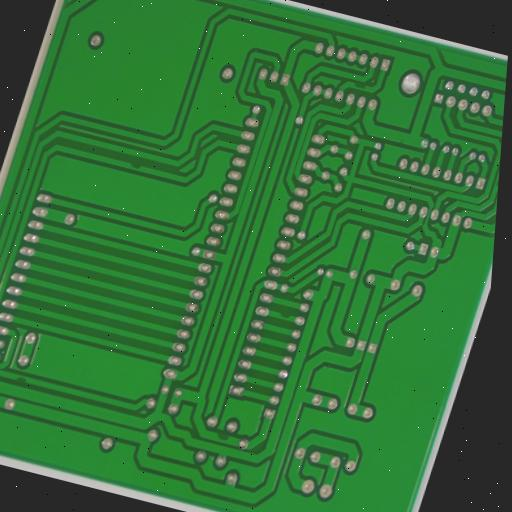mouse_bite: (208, 429, 234, 449), (123, 159, 145, 176), (273, 309, 294, 325), (350, 80, 369, 94), (12, 373, 31, 387), (491, 172, 499, 189)
